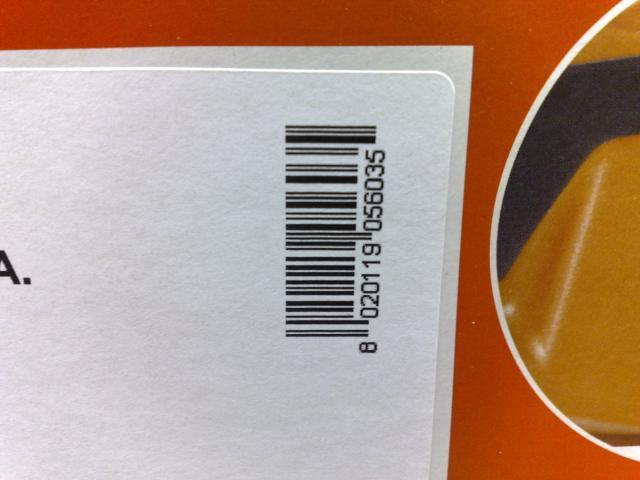Barcode: (265, 105, 406, 377)
